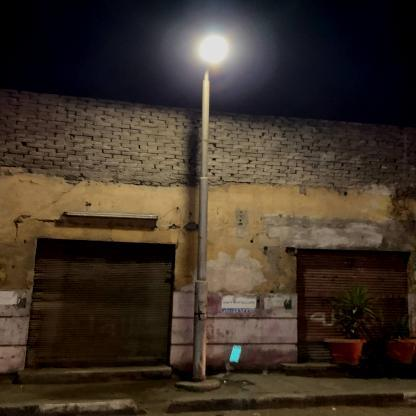light_pole: (188, 35, 231, 382)
